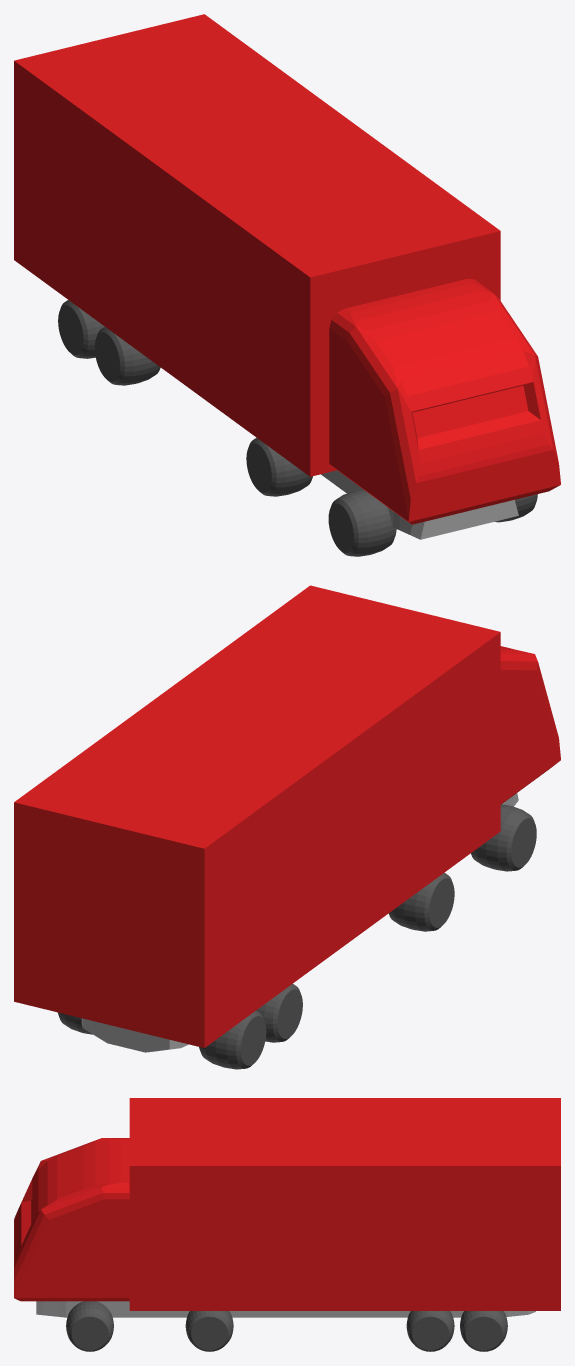
File: Camion.fbx
3 views of the same model, one above another, from view 1: azimuth 30°, elevation 25°; view 2: azimuth 150°, elevation 25°; view 3: azimuth 270°, elevation 25° (orthographic). The views are drawn at different scales.
Visible parts, largest first — view 1: Coffre+Cabine, RoueD1, Chassis, RoueD2, RoueD3, RoueD4; view 2: Coffre+Cabine, RoueD1, RoueD4, RoueD2, RoueD3, Chassis; view 3: Coffre+Cabine, Chassis, RoueG1, RoueG2, RoueG3, RoueG4.
Part boxes in pixels (left/top/right/bottom): Coffre+Cabine: left=14, top=14, right=560, bottom=524; RoueD1: left=328, top=489, right=396, bottom=556; Chassis: left=321, top=470, right=518, bottom=539; RoueD2: left=246, top=437, right=312, bottom=496; RoueD3: left=94, top=327, right=160, bottom=385; RoueD4: left=58, top=300, right=104, bottom=358; Coffre+Cabine: left=14, top=585, right=560, bottom=1047; RoueD1: left=471, top=804, right=536, bottom=871; RoueD4: left=199, top=1010, right=266, bottom=1069; RoueD2: left=388, top=873, right=454, bottom=931; RoueD3: left=256, top=984, right=302, bottom=1042; Chassis: left=81, top=793, right=518, bottom=1052; Coffre+Cabine: left=14, top=1098, right=560, bottom=1310; Chassis: left=36, top=1301, right=535, bottom=1317; RoueG1: left=66, top=1301, right=113, bottom=1351; RoueG2: left=185, top=1311, right=233, bottom=1351; RoueG3: left=406, top=1311, right=454, bottom=1351; RoueG4: left=460, top=1311, right=507, bottom=1351.
Bounding box in the file's own units: 200 × 262 × 683.
